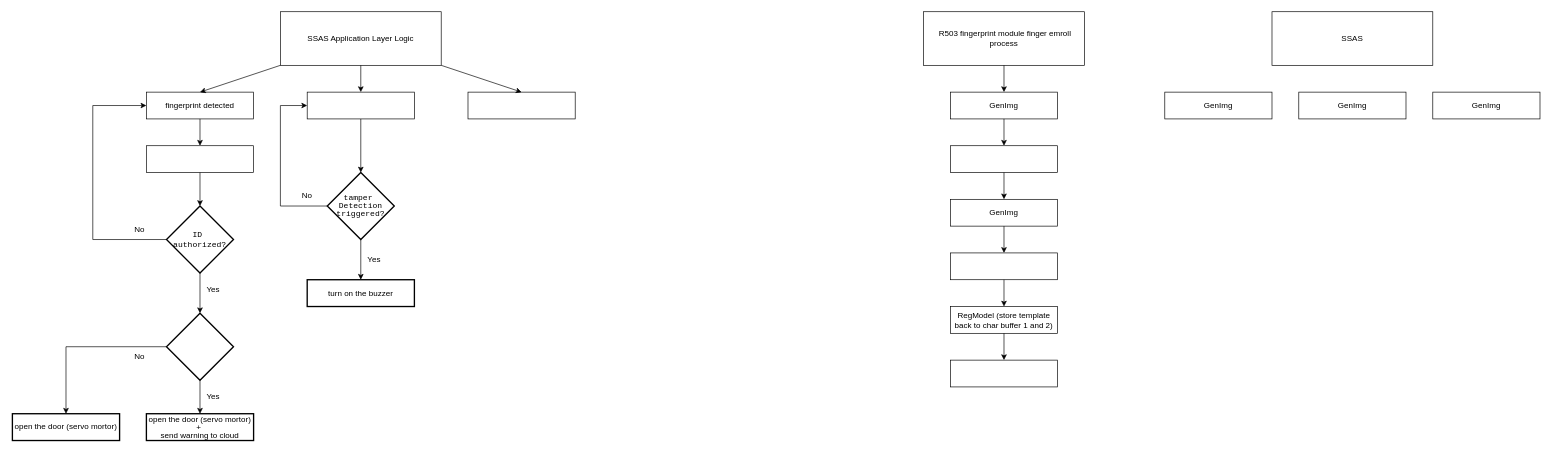
The diagram is 1552 pixels wide and 453 high, and some of its shapes have lost their labels. The shapes that lost their labels are listed below. From the top down, each one's box as (x1, y1, x2, y2) in pixels, then its label:
(307, 91, 414, 119): IMU
(467, 91, 575, 119): LCD
(146, 145, 254, 173): Authenticate
(950, 145, 1058, 173): Img2Tz (to char buffer 1)
(950, 252, 1058, 280): Img2Tz (to char buffer 2)
(165, 312, 234, 381): duress fingerprint?
(950, 359, 1058, 387): store (store to library)
